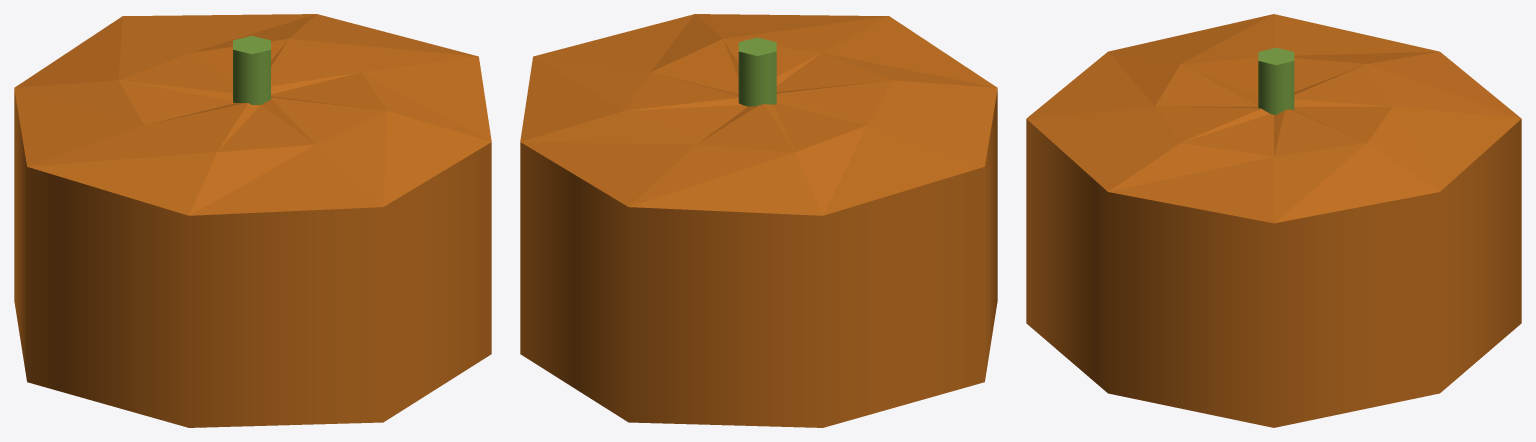
Rendered from Pumpkin 1.FBX.
3 views of the same model, side by side, from view 1: azimuth 30°, elevation 25°; view 2: azimuth 150°, elevation 25°; view 3: azimuth 270°, elevation 25° (orthographic). The views are drawn at different scales.
Parts seen in each view (by area): view 1: Pumpkin; view 2: Pumpkin; view 3: Pumpkin.
Boxes of the visible parts, x1,y1,x2,y2 form: Pumpkin: [14, 14, 491, 427]; Pumpkin: [520, 14, 997, 427]; Pumpkin: [1026, 14, 1521, 427].
Bounding box in the file's own units: 20.38 × 12.12 × 20.38.
